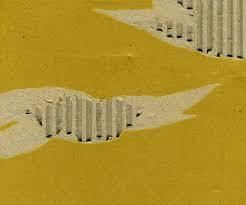Cardboard: (3, 3, 246, 205)
